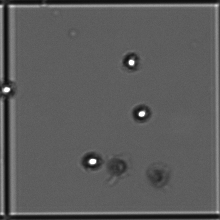Dead Cell: (146, 161, 169, 185), (109, 156, 129, 176)
Living Cell: (131, 100, 153, 126), (123, 48, 143, 74), (82, 149, 102, 173), (1, 78, 17, 100)
